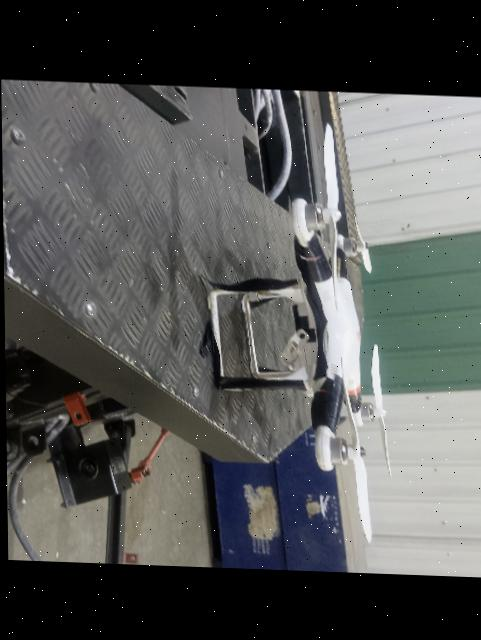drone: (196, 112, 405, 550)
